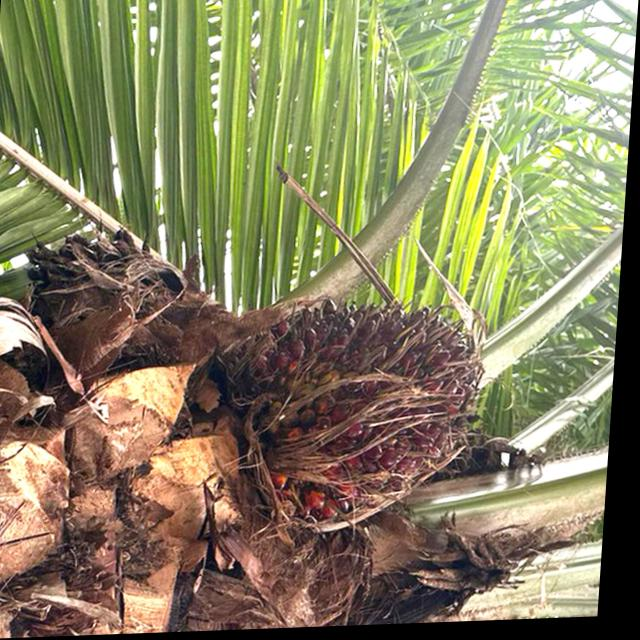ripe: (239, 293, 499, 538)
